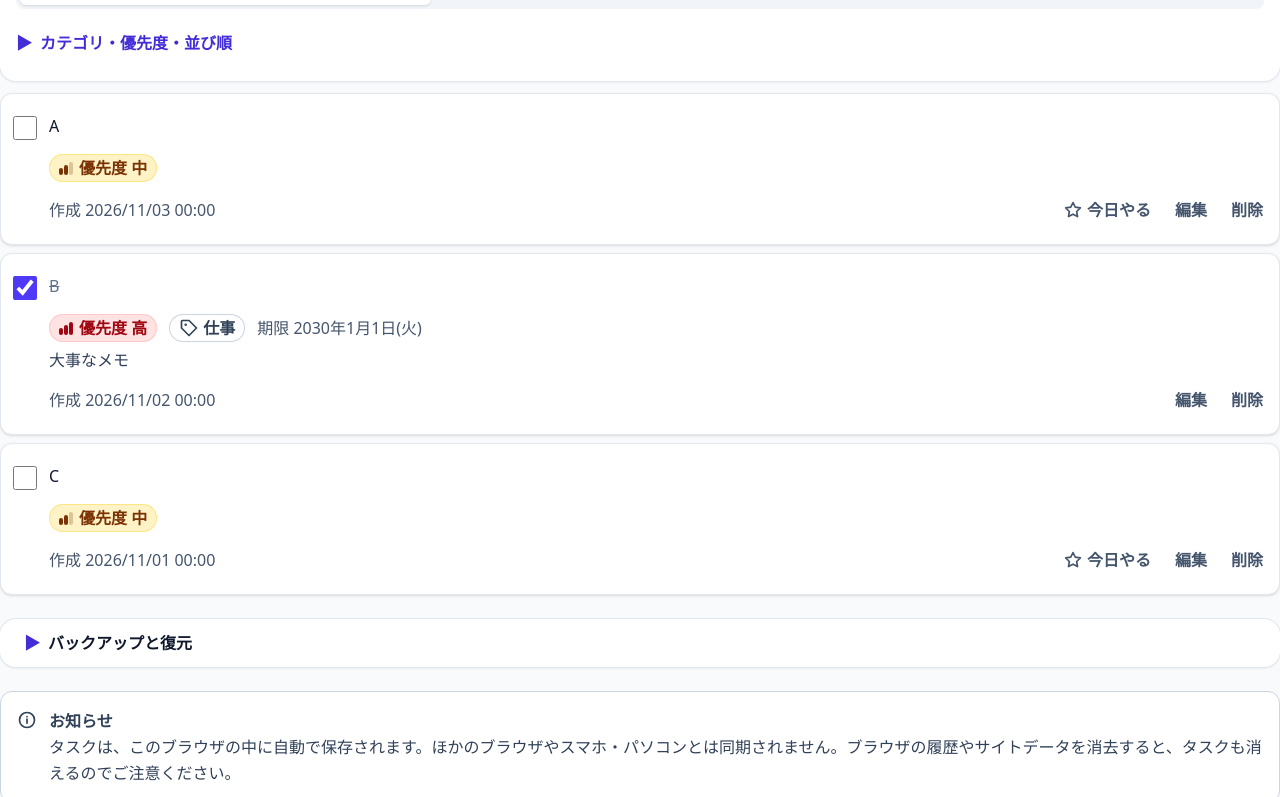
Test case: G. 削除の取り消し（Undo） › 削除すると「元に戻す」が出て、押すと元の位置・元の内容で戻る
This screenshot has width=1280, height=797.
(page scrolled)
Click the button with aria-label "「B」を削除". click: (1247, 400)
box: [1219,378,1275,422]
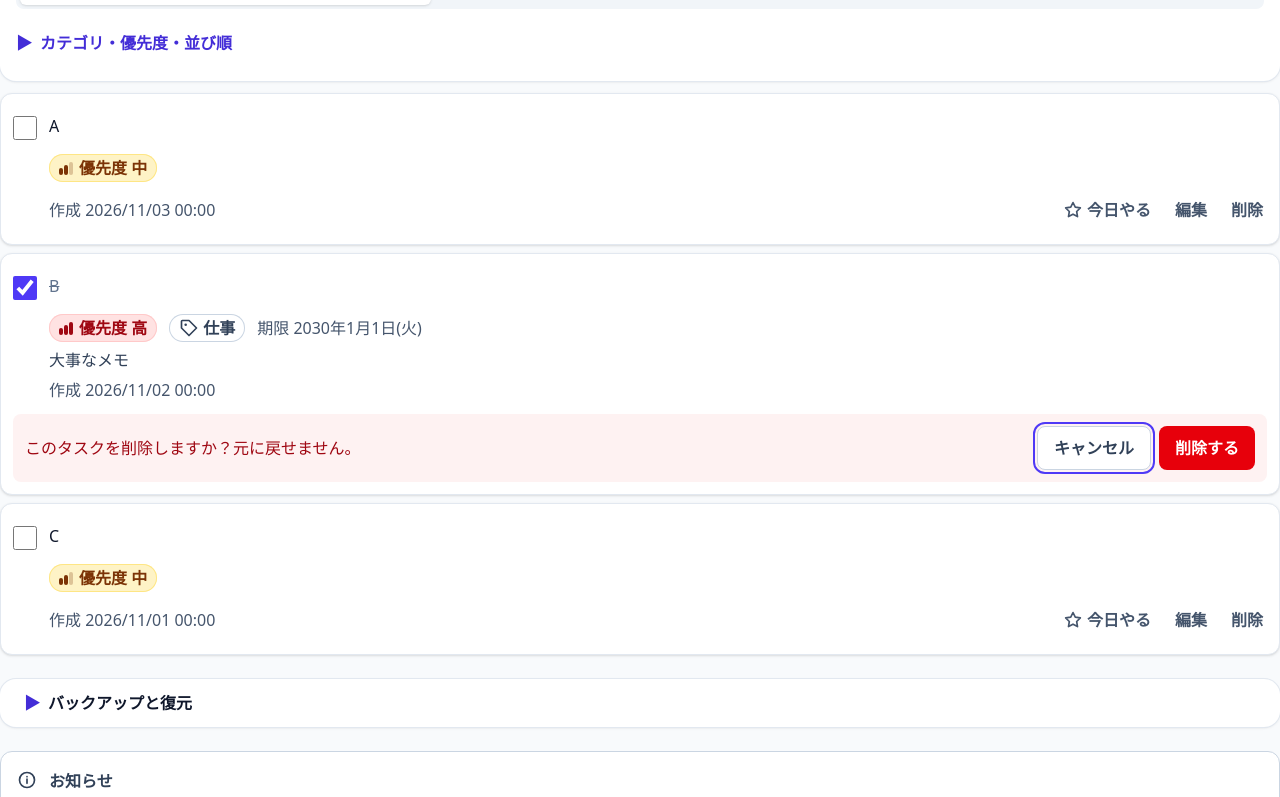
Click the button "削除する". click: (1207, 448)
box: [1159,426,1255,470]
(page scrolled)
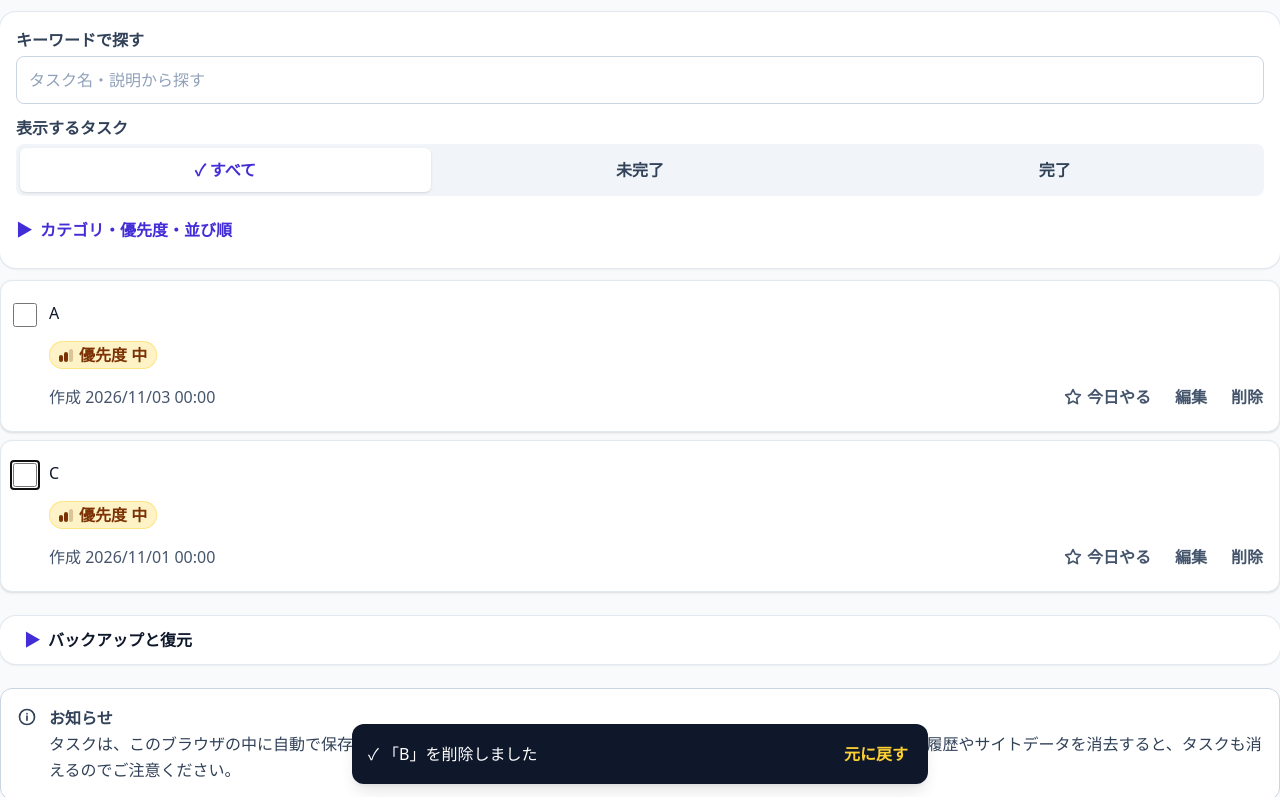
Expected: the text "「B」を削除しました" is shown, [368,743,538,765]
Click the button "元に戻す". click: (876, 754)
box: [832,732,920,776]
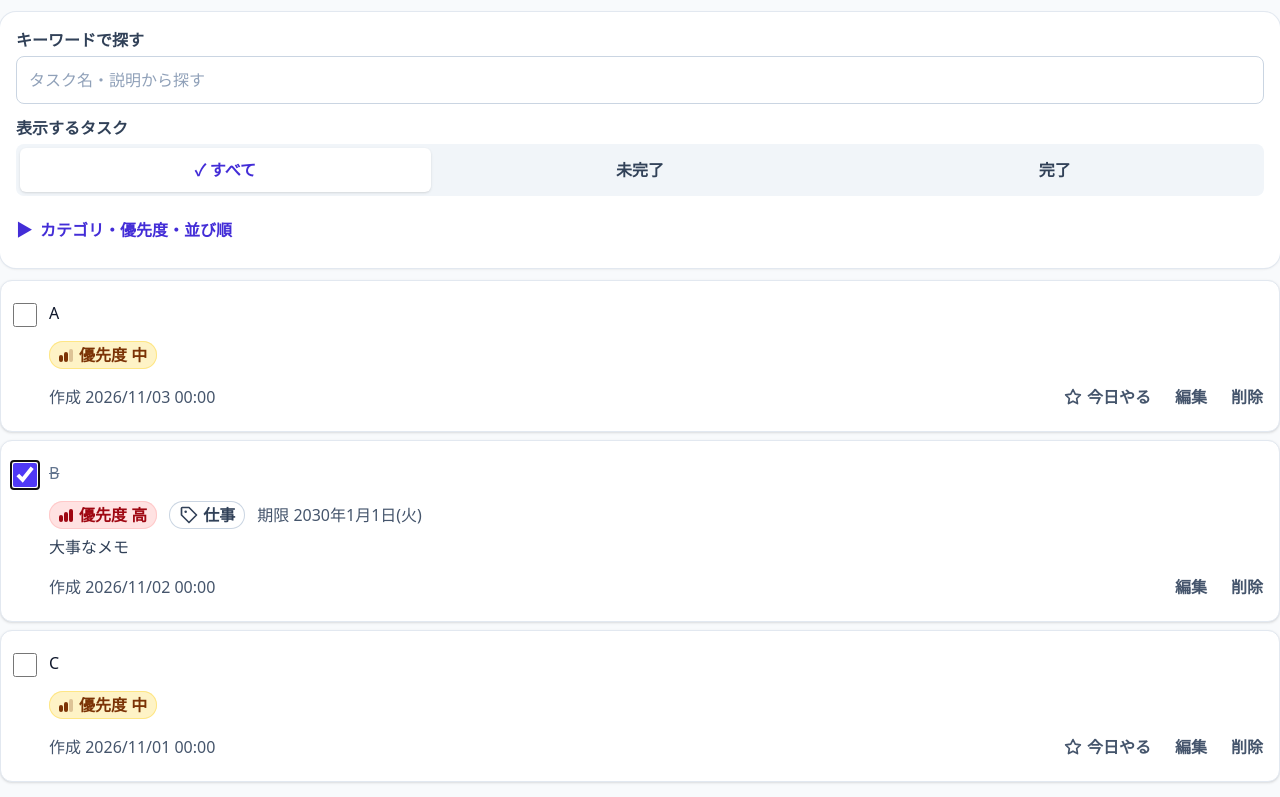
Expected: the button "元に戻す" is gone
